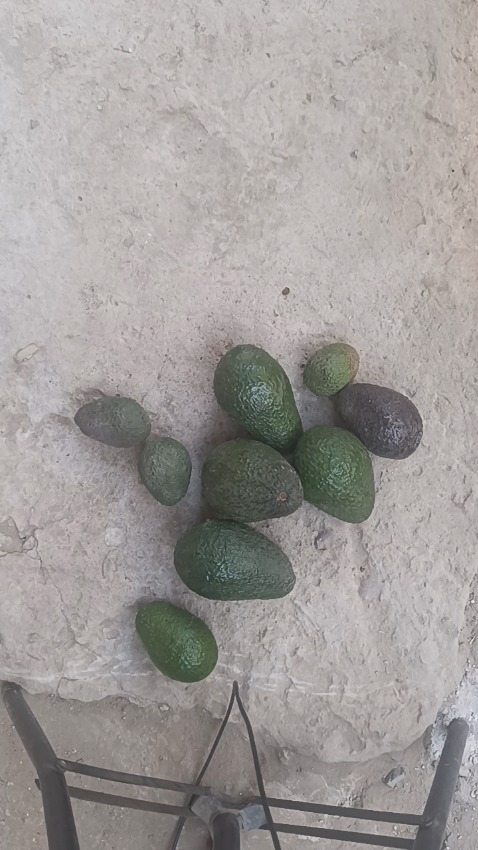Primera: (213, 343, 306, 452), (174, 518, 293, 601), (200, 438, 304, 523), (291, 424, 374, 524)
Segunda: (334, 382, 423, 459), (134, 600, 216, 683)
Tercera: (74, 395, 151, 448), (138, 435, 192, 506), (302, 343, 358, 398)
